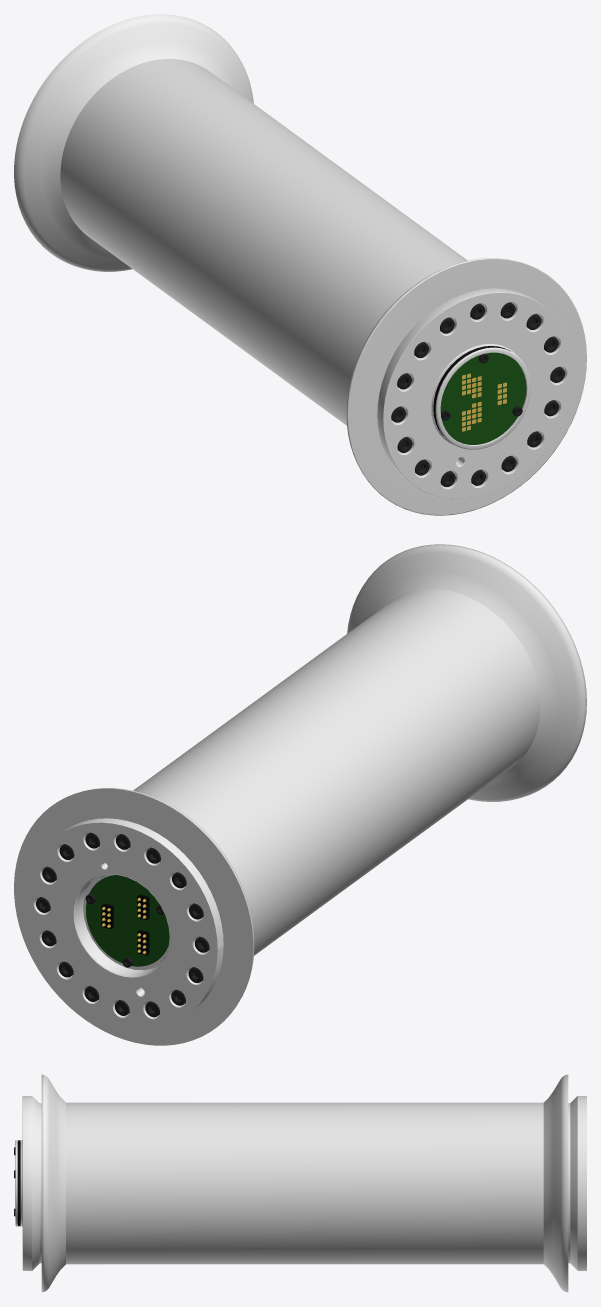
3 renders of one model, top to bottom at view 1: azimuth 30°, elevation 25°; view 2: azimuth 150°, elevation 25°; view 3: azimuth 270°, elevation 25°, orthographic. The views are drawn at different scales.
Visible parts, largest first — view 1: I116.001; view 2: I116.001; view 3: I116.001.
Boxes of the visible parts, left/top/right/bottom form: I116.001: left=14, top=14, right=586, bottom=515; I116.001: left=14, top=544, right=586, bottom=1045; I116.001: left=14, top=1074, right=586, bottom=1292.
Size of the model in its own units: 0.116 by 0.116 by 0.3047.
